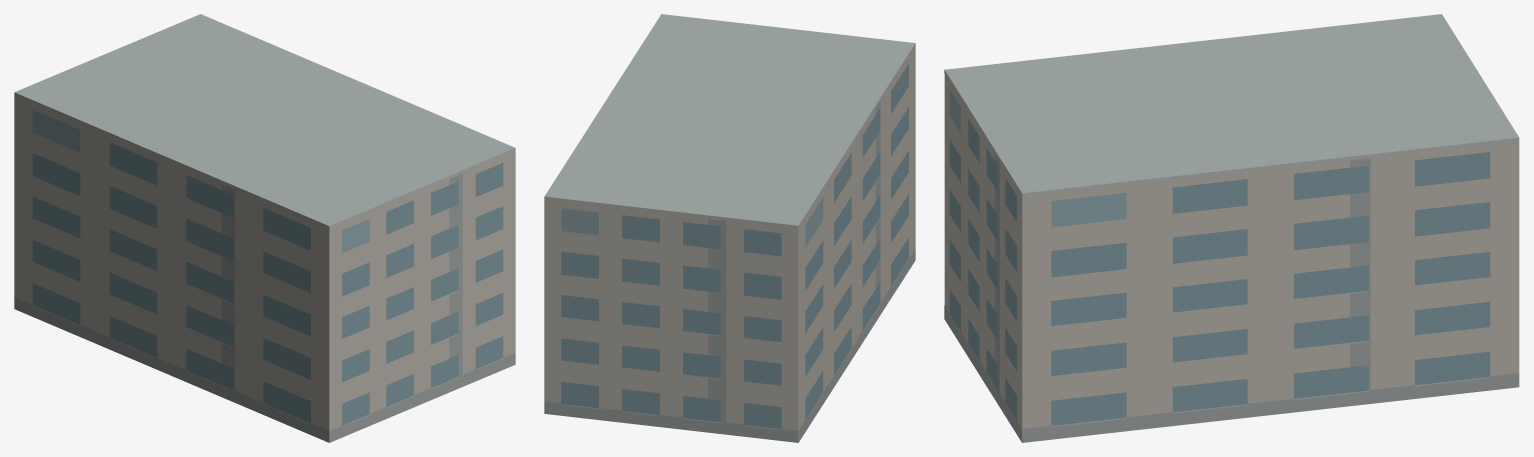
Rendered from residential-e0faa5f1-3f0e-4d2a-835f-742770f47b91.glb.
The picture shows the model from 3 angles, left to right: view 1: azimuth 30°, elevation 25°; view 2: azimuth 150°, elevation 25°; view 3: azimuth 270°, elevation 25°; orthographic projection. The views are drawn at different scales.
Visible parts, largest first — view 1: residential-e0faa5f1-3f0e-4d2a-835f-742770f47b91.tmp; view 2: residential-e0faa5f1-3f0e-4d2a-835f-742770f47b91.tmp; view 3: residential-e0faa5f1-3f0e-4d2a-835f-742770f47b91.tmp.
Boxes of the visible parts, x1,y1,x2,y2 form: residential-e0faa5f1-3f0e-4d2a-835f-742770f47b91.tmp: (14,14,515,442); residential-e0faa5f1-3f0e-4d2a-835f-742770f47b91.tmp: (544,14,915,442); residential-e0faa5f1-3f0e-4d2a-835f-742770f47b91.tmp: (944,14,1519,442).
Bounding box in the file's own units: 23.5 × 15.25 × 31.84.
